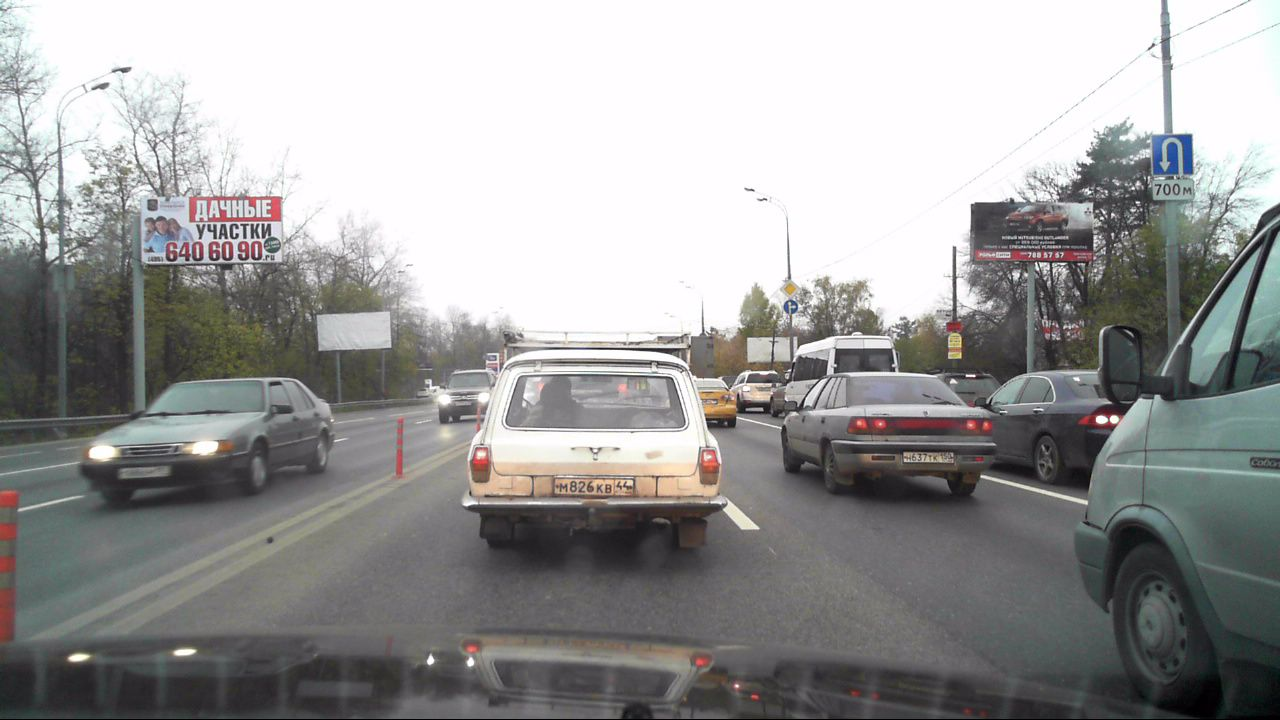U-turn: (1151, 135, 1193, 175)
